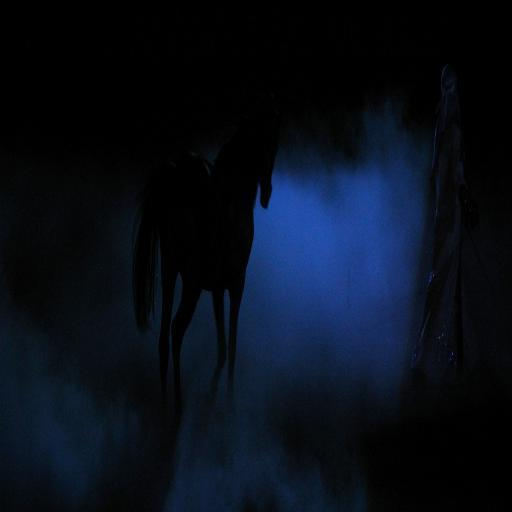Horse: (132, 98, 280, 420)
